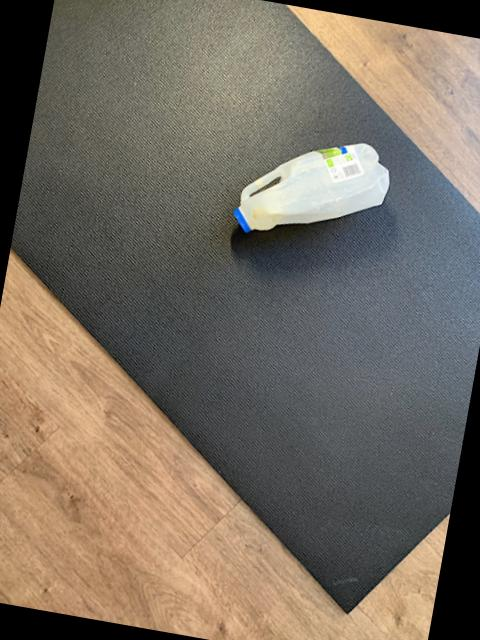plastic: (234, 141, 389, 230)
